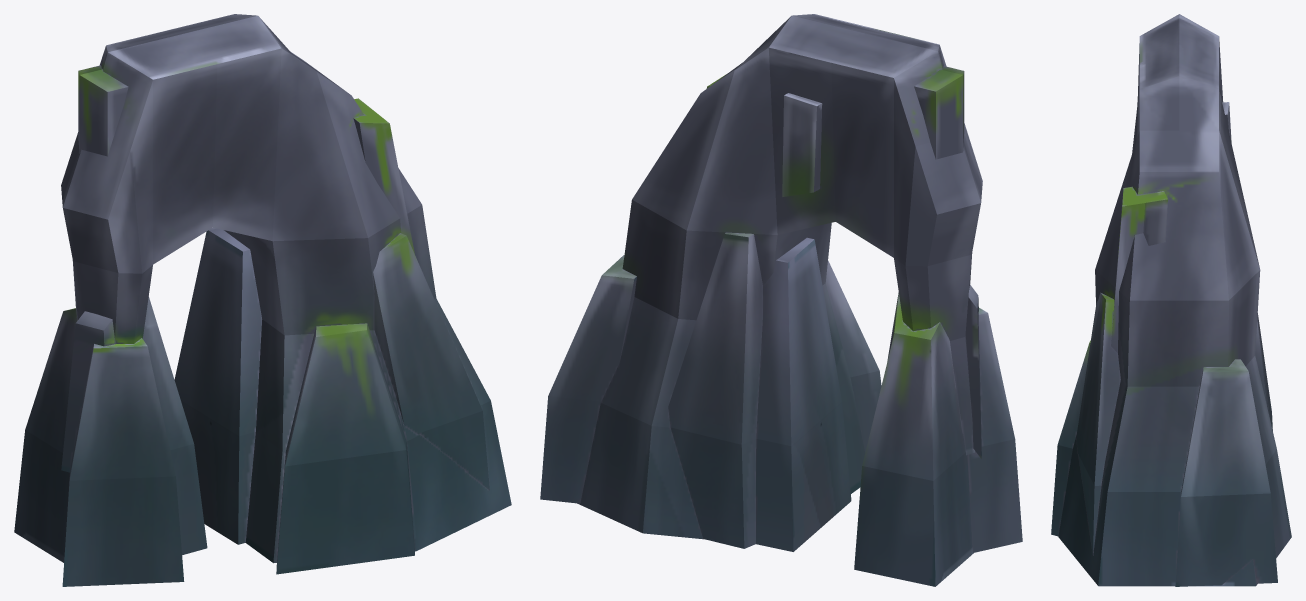
The model's file is Arch.fbx.
The picture shows the model from 3 angles, left to right: view 1: azimuth 30°, elevation 25°; view 2: azimuth 150°, elevation 25°; view 3: azimuth 270°, elevation 25°; orthographic projection. The views are drawn at different scales.
Parts seen in each view (by area): view 1: Arch; view 2: Arch; view 3: Arch.
Part boxes in pixels (x1=…): Arch: x1=14, y1=14, x2=511, y2=586; Arch: x1=540, y1=14, x2=1022, y2=586; Arch: x1=1051, y1=14, x2=1291, y2=586.
Bounding box in the file's own units: 711 × 809 × 412.
